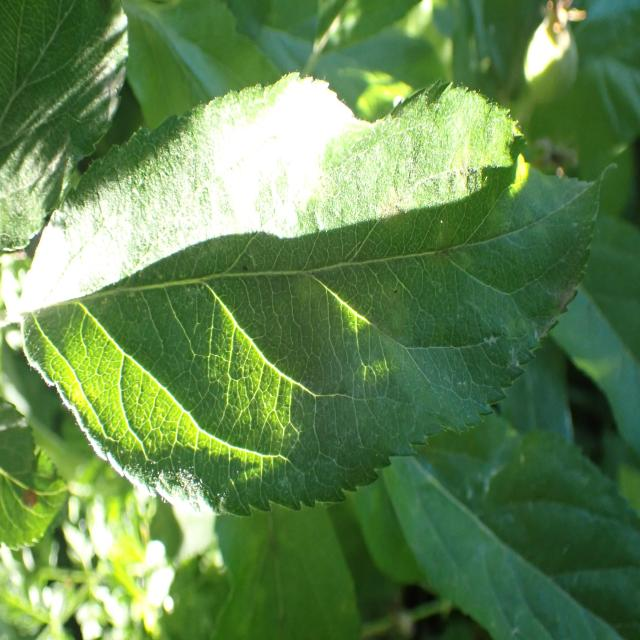scab: (365, 89, 549, 493)
